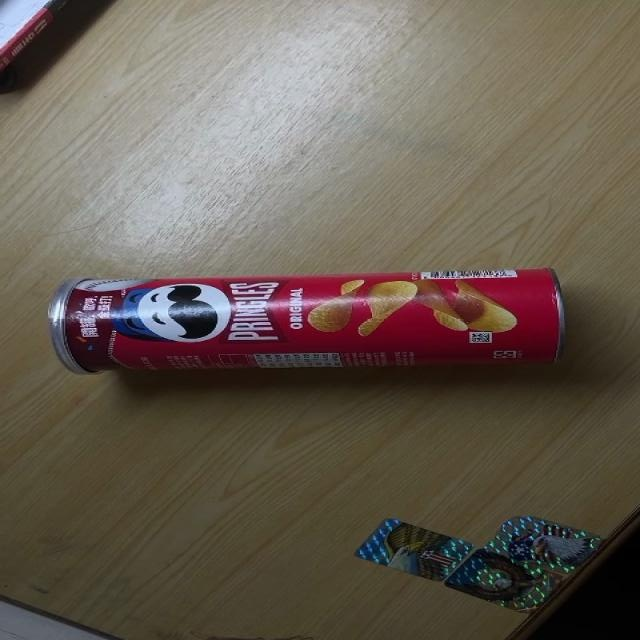Pringles: (48, 265, 561, 374)
